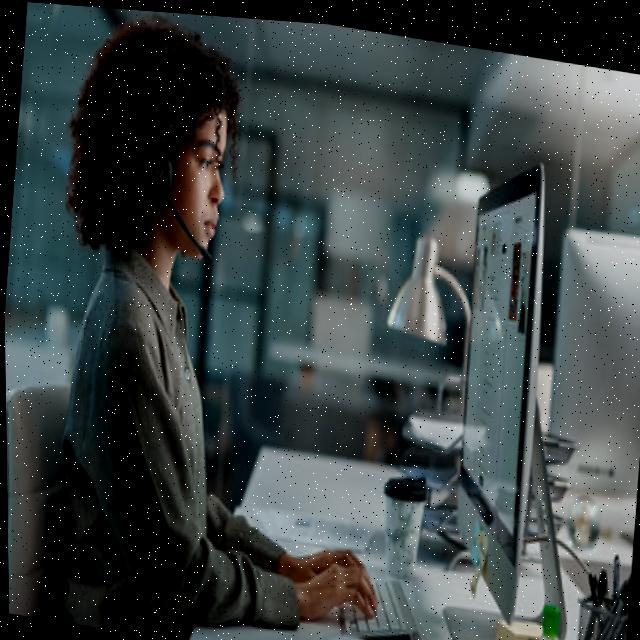desktop-person: (12, 1, 616, 640)
